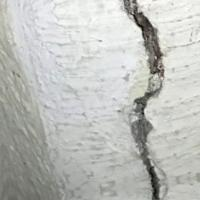crack: (102, 1, 191, 199)
